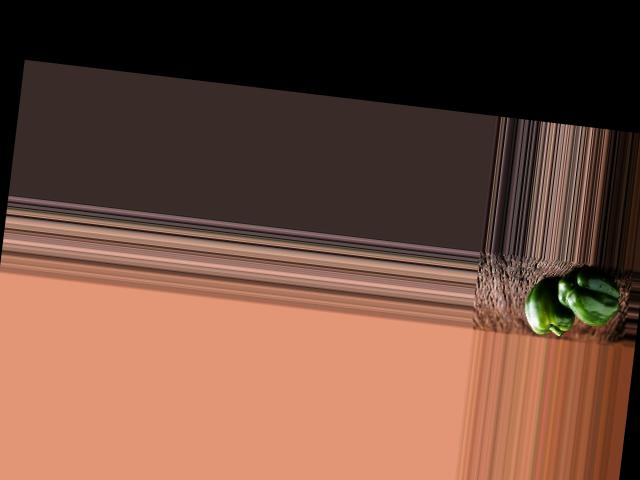bell_pepper: (551, 268, 622, 329)
